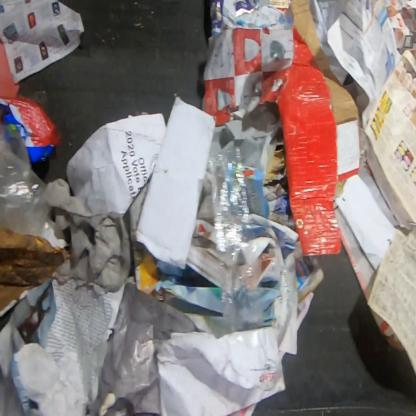cardboard: (277, 1, 361, 256), (0, 226, 69, 317)
soft_plastic: (88, 281, 201, 415), (208, 147, 265, 334), (0, 124, 54, 240)
